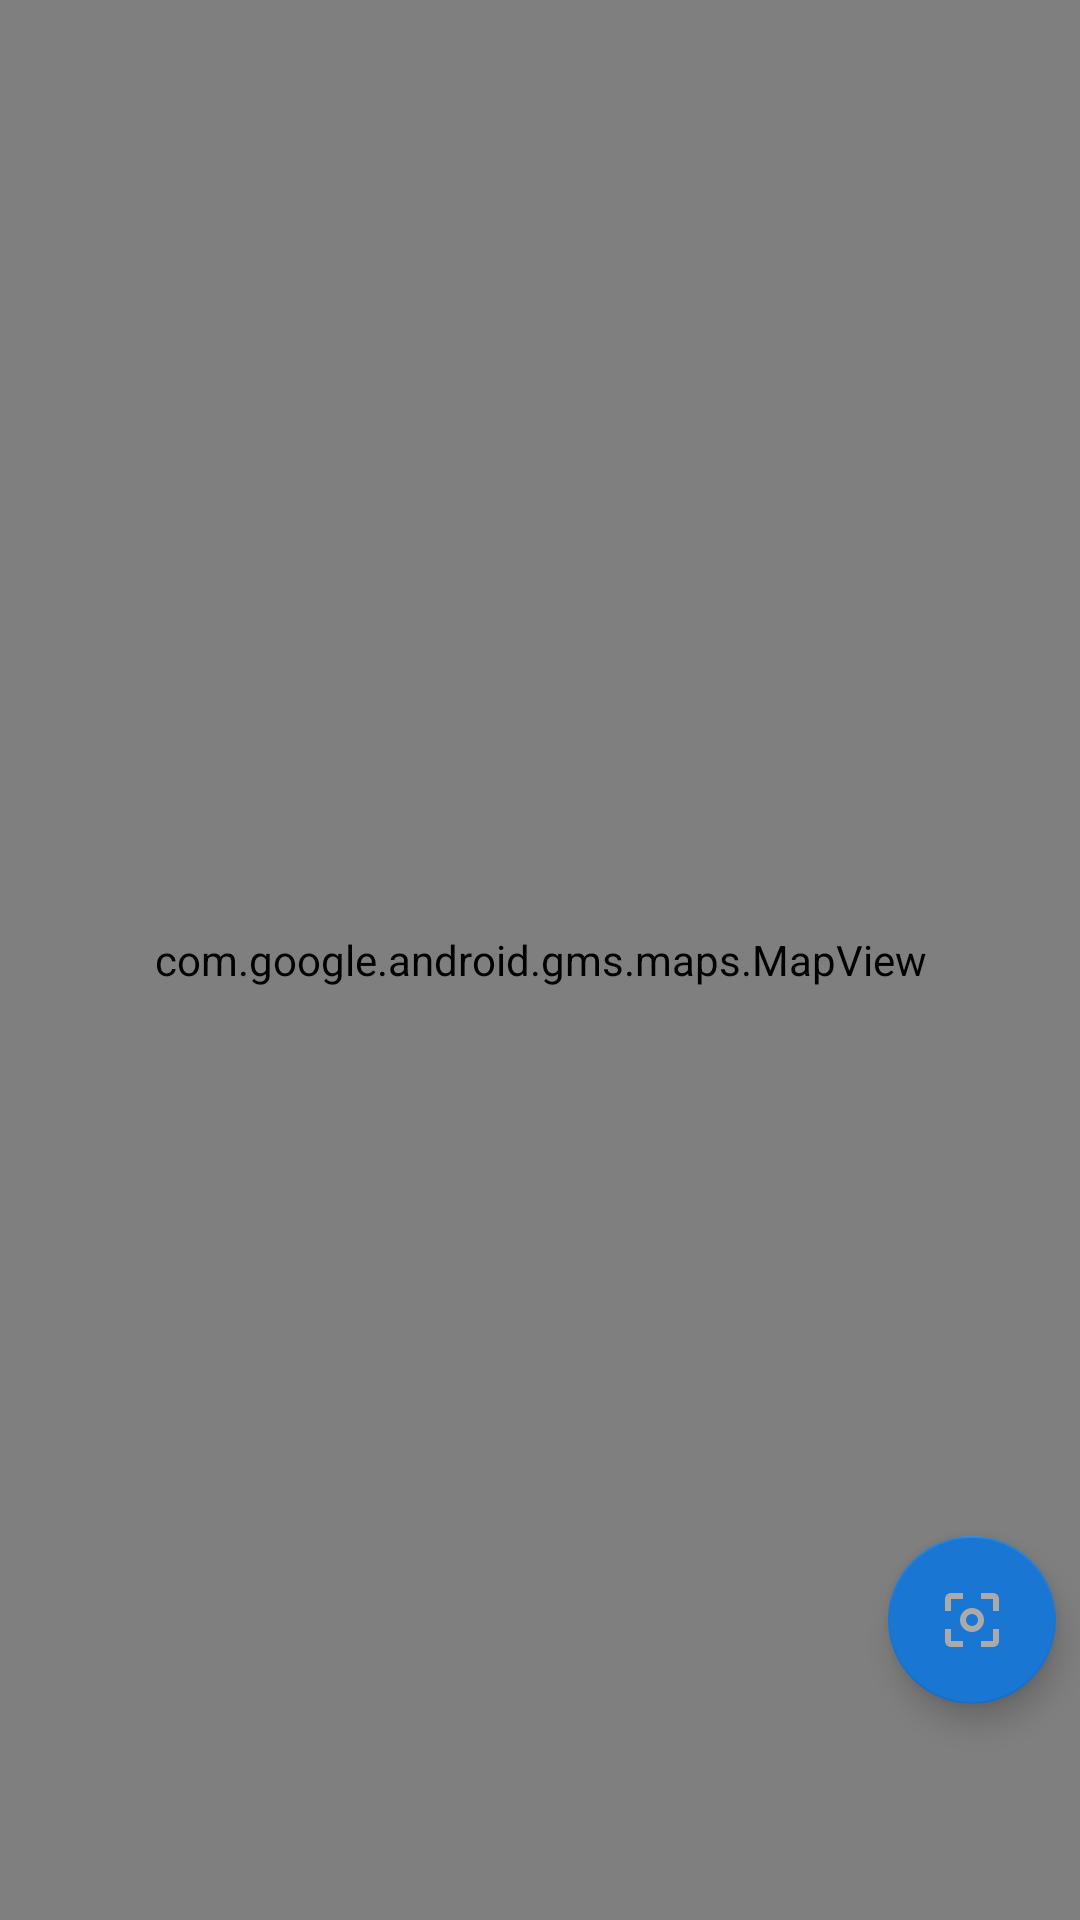

Screen size 1080 x 1920. Icon name, then its center in pixels as [x,y]:
AR: [972,1620]
